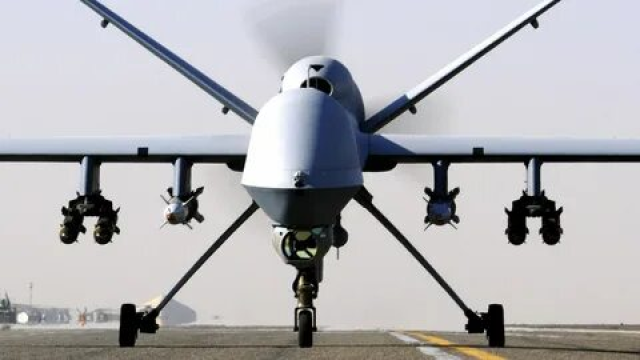military drone: (0, 0, 640, 348)
